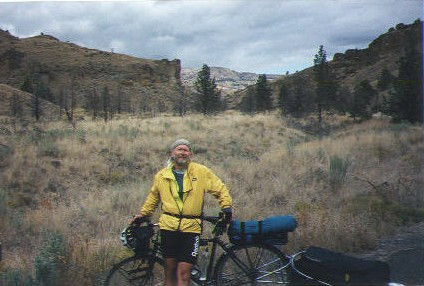person: (134, 139, 234, 286)
